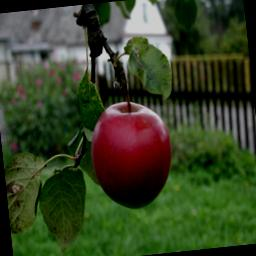Apple Ripe: (86, 74, 181, 226)
